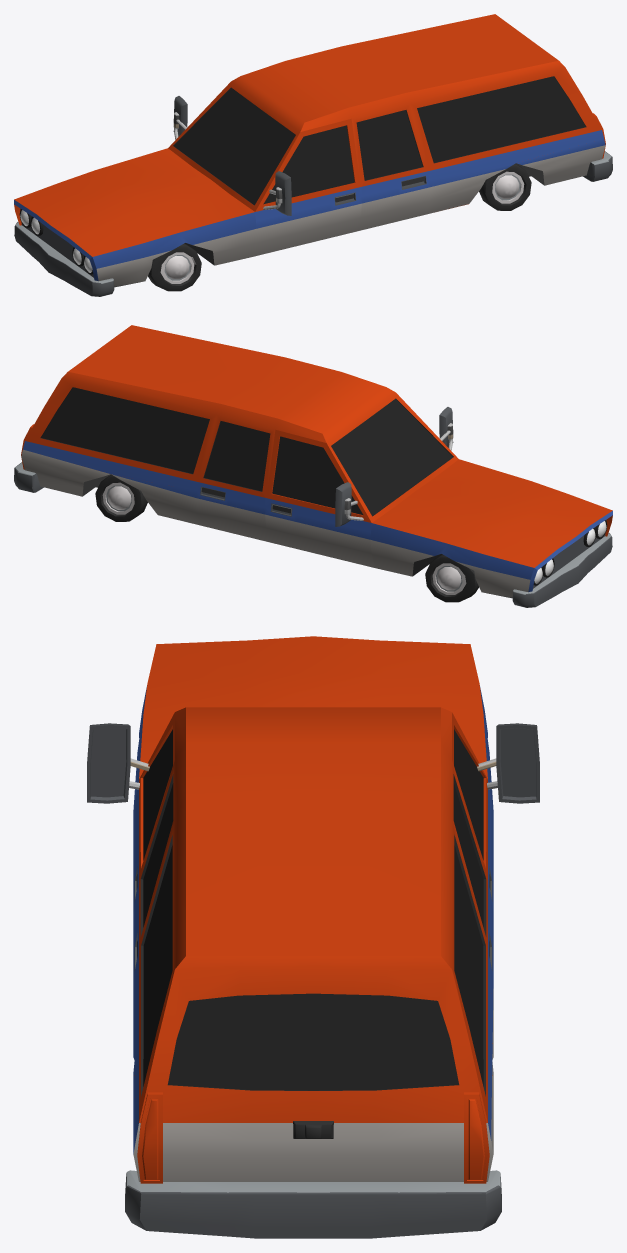
File: Carro2.fbx
3 renders of one model, top to bottom at view 1: azimuth 30°, elevation 25°; view 2: azimuth 150°, elevation 25°; view 3: azimuth 270°, elevation 25°, orthographic. The views are drawn at different scales.
Visible parts, largest first — view 1: PROPS_INTERIOR_2_1.002; view 2: PROPS_INTERIOR_2_1.002; view 3: PROPS_INTERIOR_2_1.002.
Boxes of the visible parts, x1,y1,x2,y2 form: PROPS_INTERIOR_2_1.002: (14,14,612,296); PROPS_INTERIOR_2_1.002: (14,325,612,607); PROPS_INTERIOR_2_1.002: (87,636,539,1238).
Bounding box in the file's own units: 1164 × 295 × 438.
Materials: 1 (1 with a texture image).
